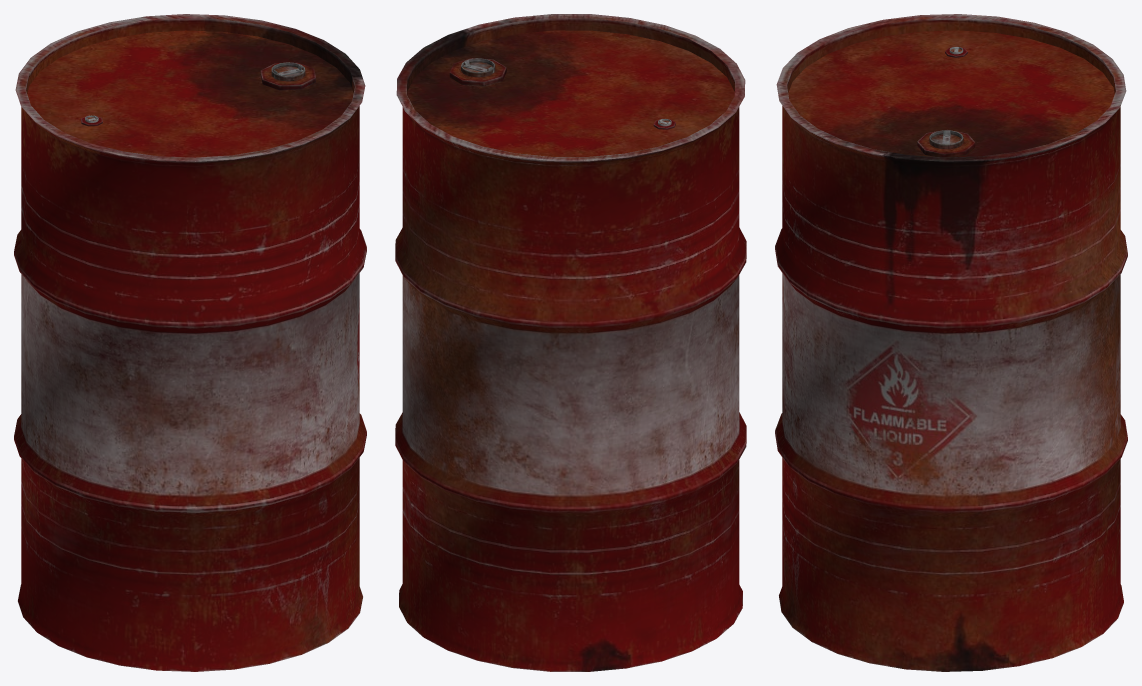
The model's file is oil_barrel.glb.
3 views of the same model, side by side, from view 1: azimuth 30°, elevation 25°; view 2: azimuth 150°, elevation 25°; view 3: azimuth 270°, elevation 25° (orthographic).
Visible parts, largest first — view 1: barrel_oil; view 2: barrel_oil; view 3: barrel_oil.
Boxes of the visible parts, <box> form: barrel_oil: <box>14,14,366,671</box>; barrel_oil: <box>395,14,746,671</box>; barrel_oil: <box>775,14,1127,671</box>.
Size of the model in its own units: 0.5629 by 0.9 by 0.5629.
1 material, 1 textured.
